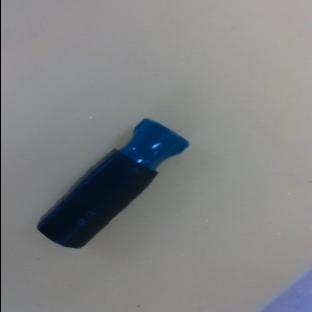part_2_bad: (32, 107, 191, 261)
